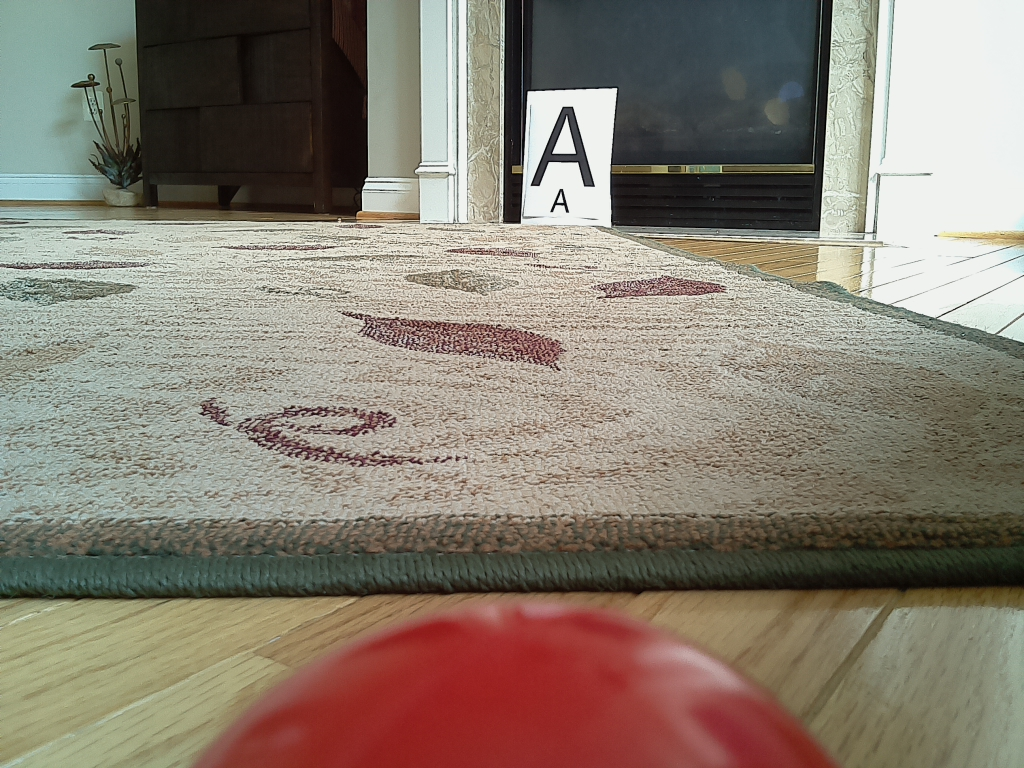letter: (531, 106, 596, 188)
